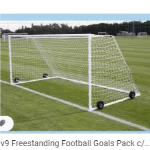goals: (5, 31, 141, 114)
